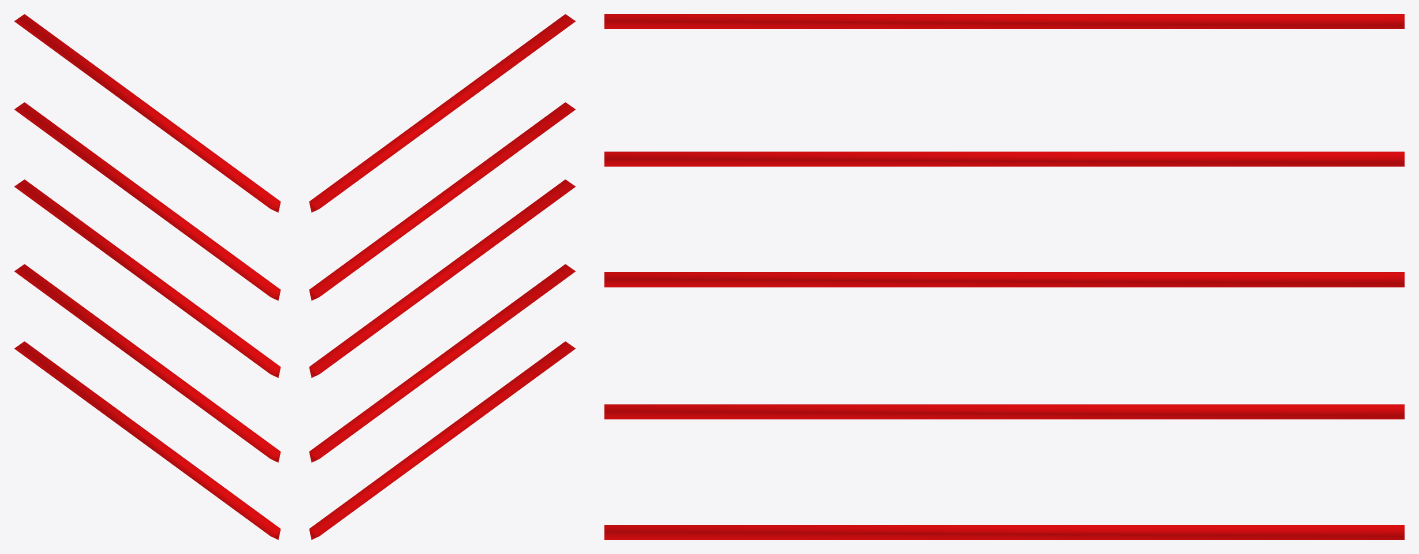
The model's file is laser.glb.
3 views of the same model, side by side, from view 1: azimuth 30°, elevation 25°; view 2: azimuth 150°, elevation 25°; view 3: azimuth 270°, elevation 25° (orthographic). The views are drawn at different scales.
Visible parts, largest first — view 1: 119 | Door4 | SlidingDoor; view 2: 119 | Door4 | SlidingDoor; view 3: 119 | Door4 | SlidingDoor.
Boxes of the visible parts, bbox=[...] form: 119 | Door4 | SlidingDoor: bbox=[14, 14, 280, 539]; 119 | Door4 | SlidingDoor: bbox=[309, 14, 575, 539]; 119 | Door4 | SlidingDoor: bbox=[604, 14, 1404, 539].
Size of the model in its own units: 0.2021 by 6.25 by 8.6.
